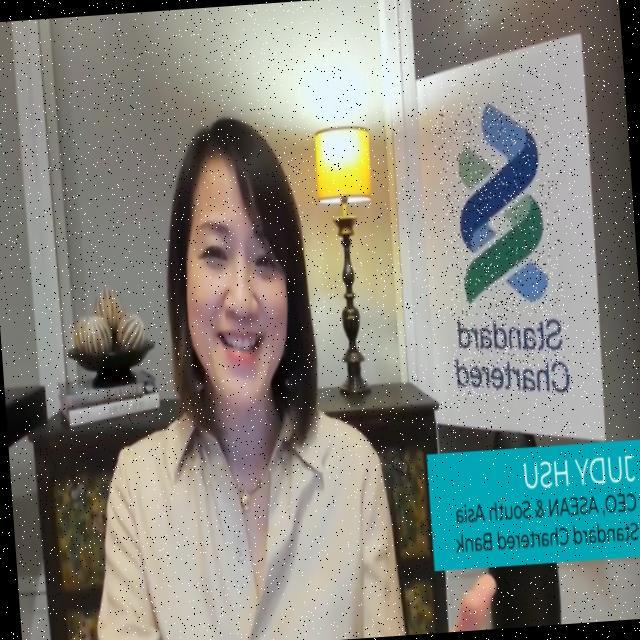Standard Chartered: (436, 97, 571, 401)
